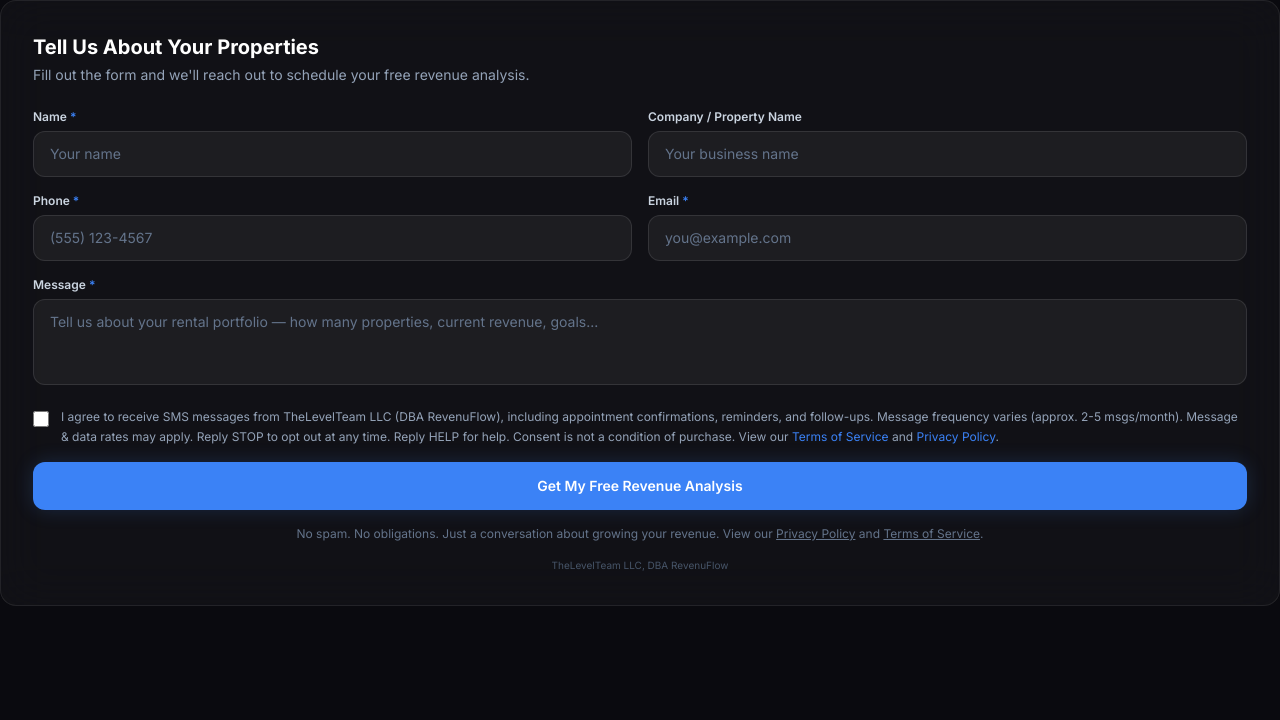
Scenario: ContactForm › submission › disables button while submitting
Type "Test User" into the field labelled "Name *" at (332, 154), box [33,131,632,177]
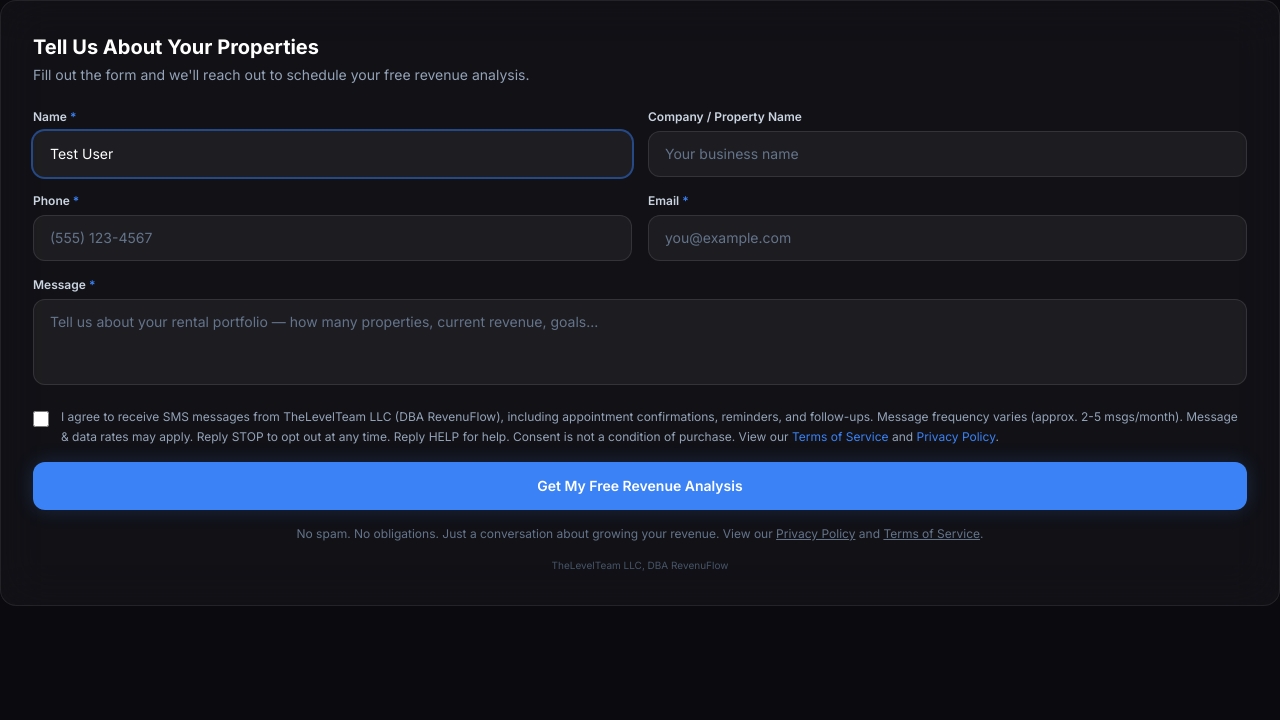
Type "555-1234" into the field labelled "Phone *" at (332, 238), box [33,215,632,261]
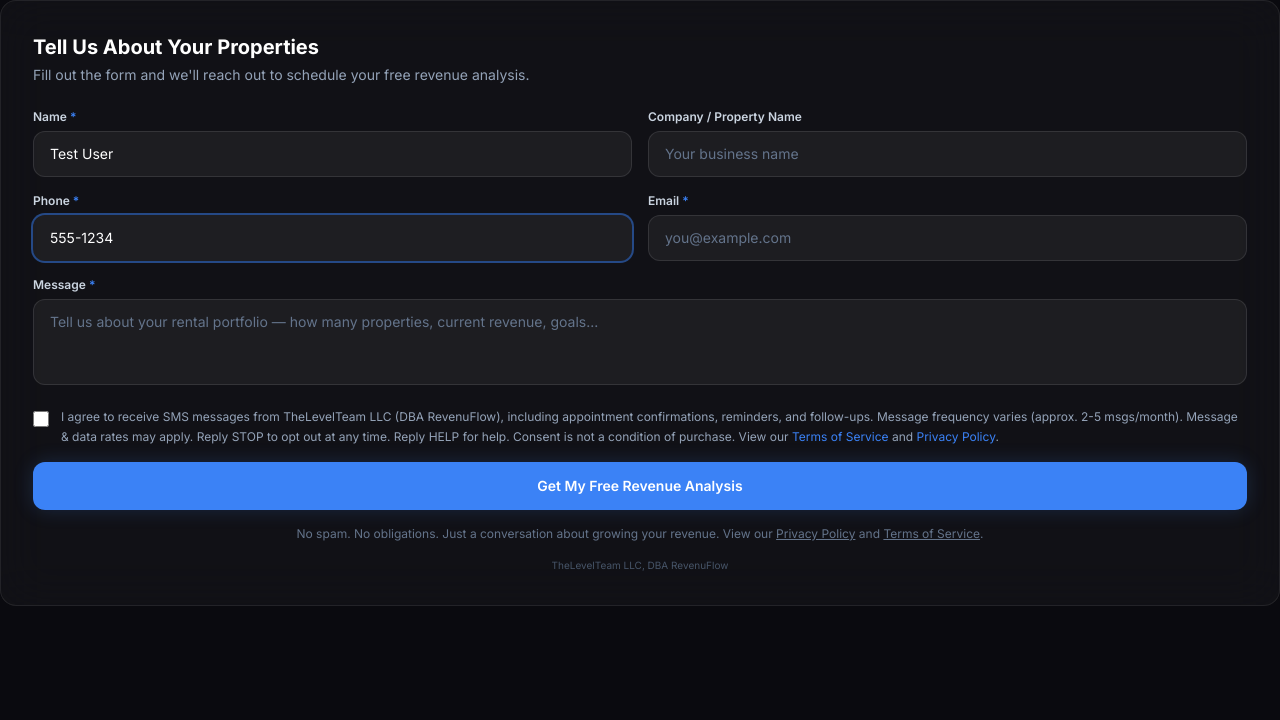
Type "test@test.com" into the field labelled "Email *" at (948, 238), box [648,215,1247,261]
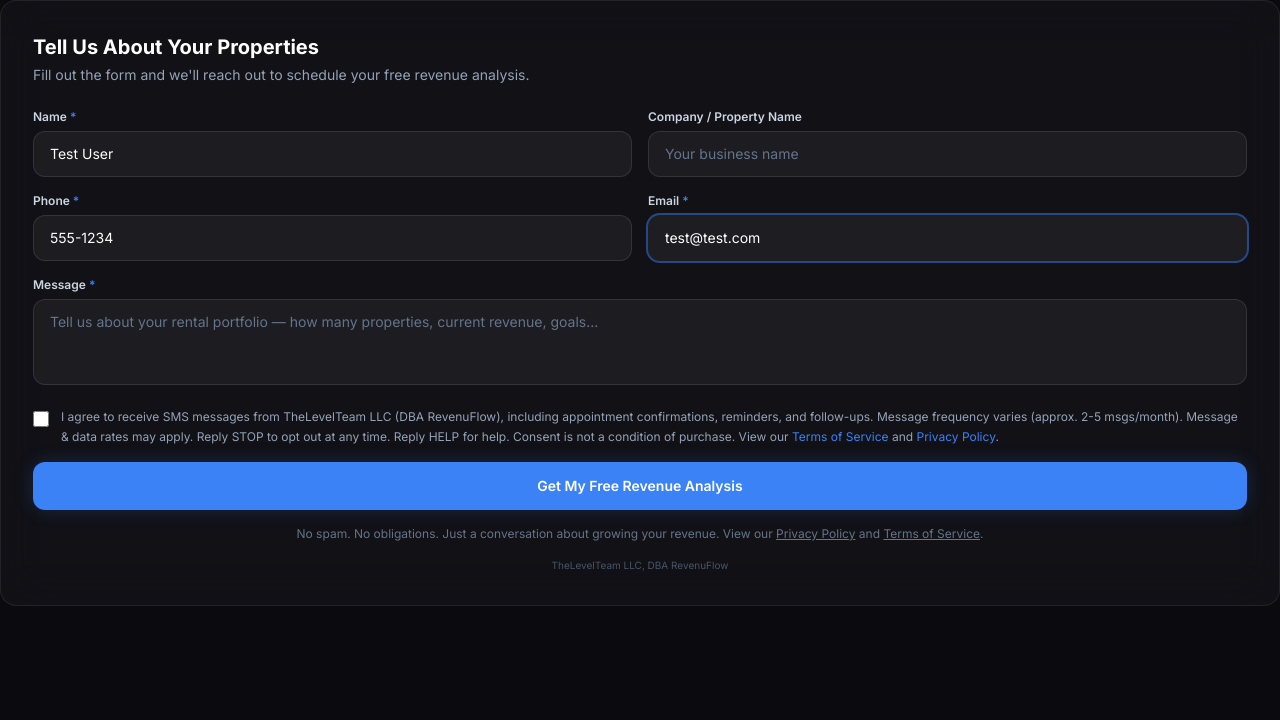
Type "Test message" into the text box labelled "Message *" at (640, 342), box [33,299,1247,385]
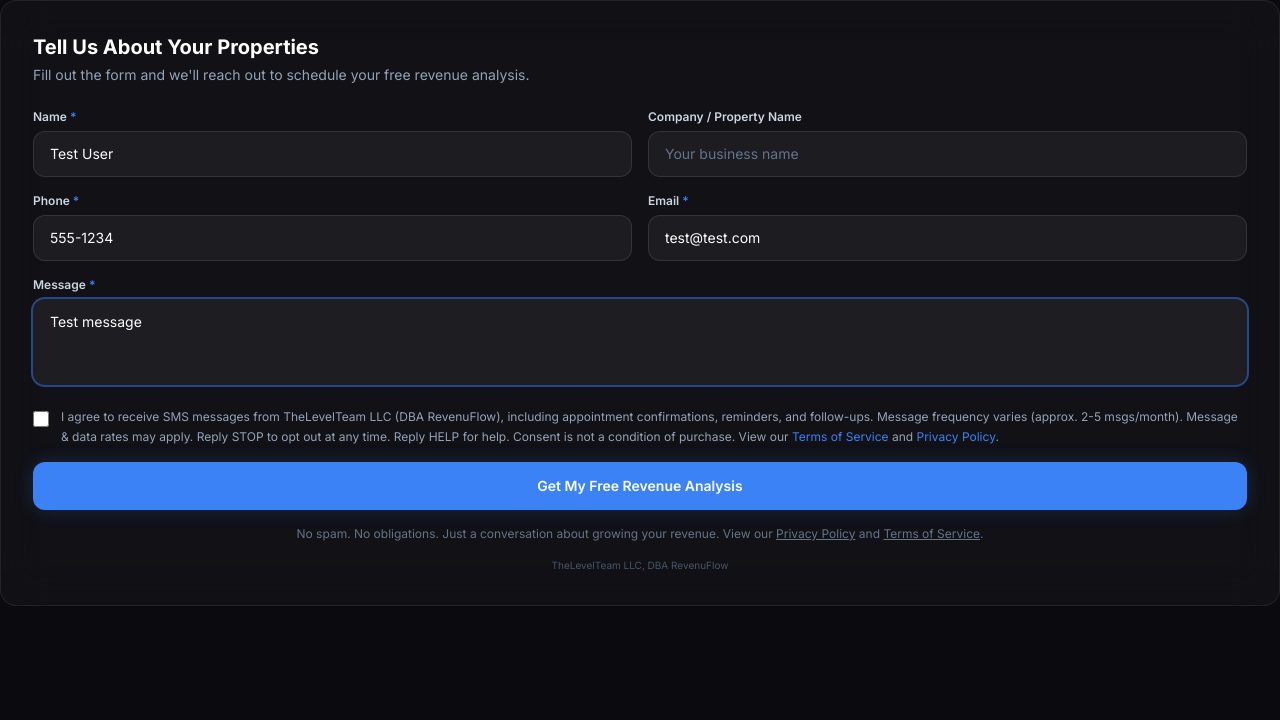
Click the button "Get My Free Revenue Analysis" at (640, 486), box [33,462,1247,510]
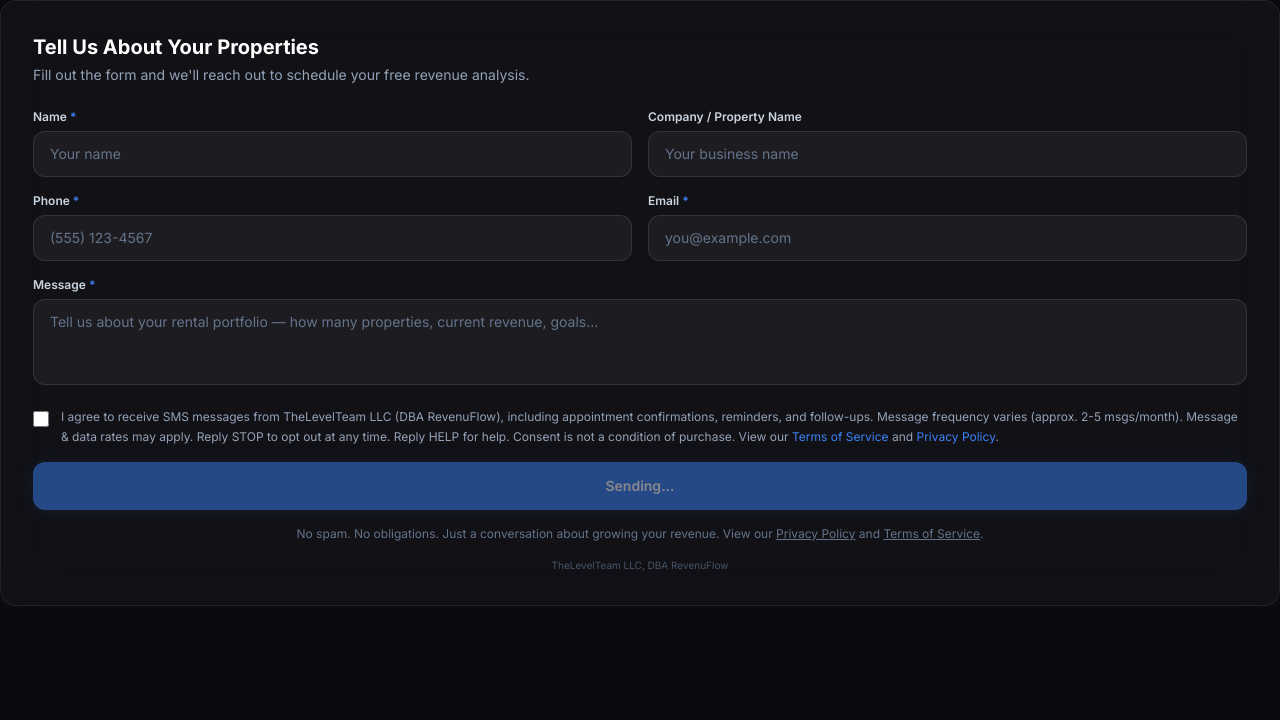
Check: the button "Sending..." is disabled, box [33,462,1247,510]
